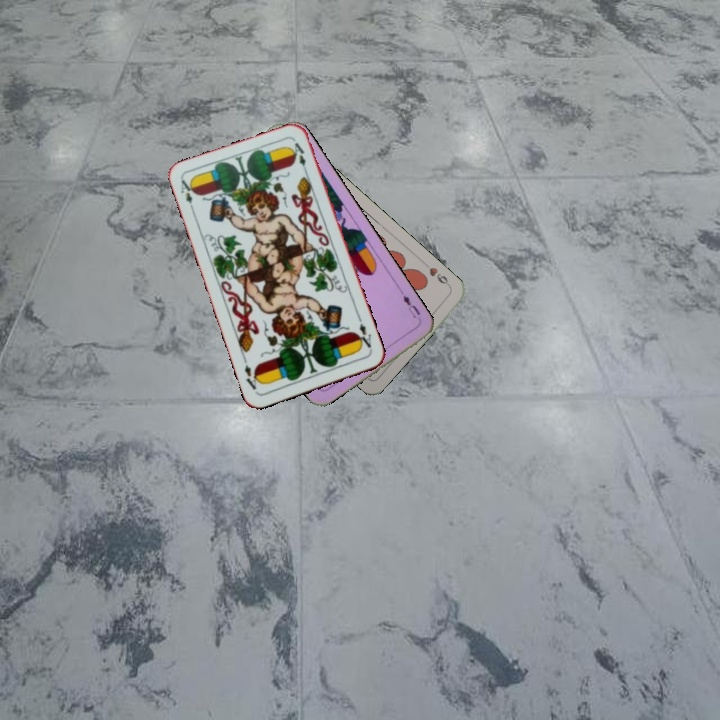EA: (352, 314, 375, 353), (176, 175, 197, 215)
EU: (399, 291, 424, 325)
H9: (420, 259, 453, 290)
